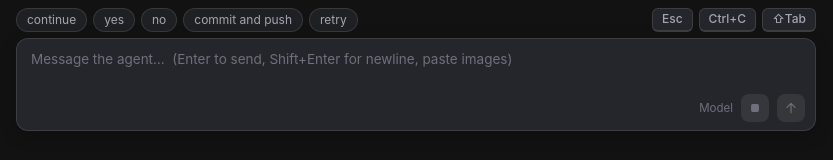
Composer completion › lists the parent folder for @../ and drills into a chosen folder
This screenshot has width=833, height=160.
Replace the text in the text box with "@../" at (418, 70), box [31,49,805,90]
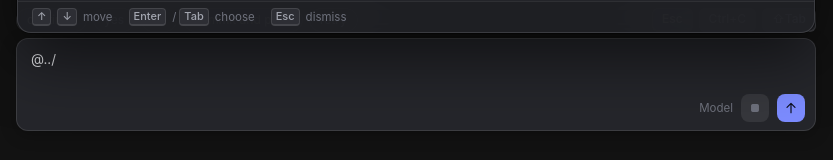
Replace the text in the text box with "@../s" at (418, 70), box [31,49,805,90]
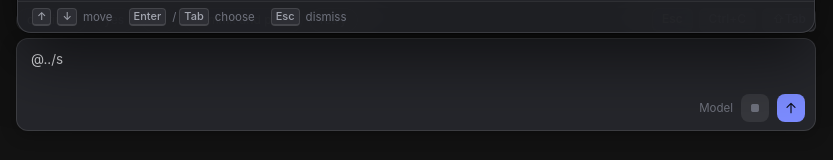
Press Tab in the text box, box [31,49,805,90]
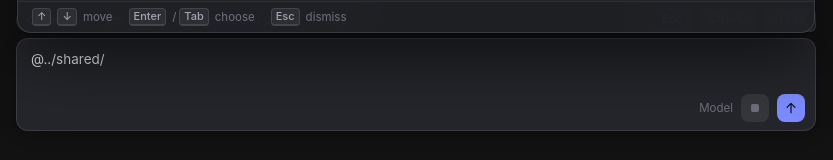
Expected: the text box holds "@../shared/"
Press Tab in the text box, box [31,49,805,90]
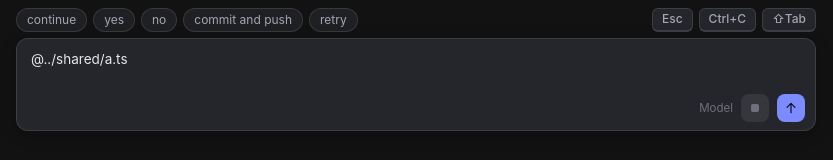
Expected: the text box holds "@../shared/a.ts ", [31,49,805,90]
